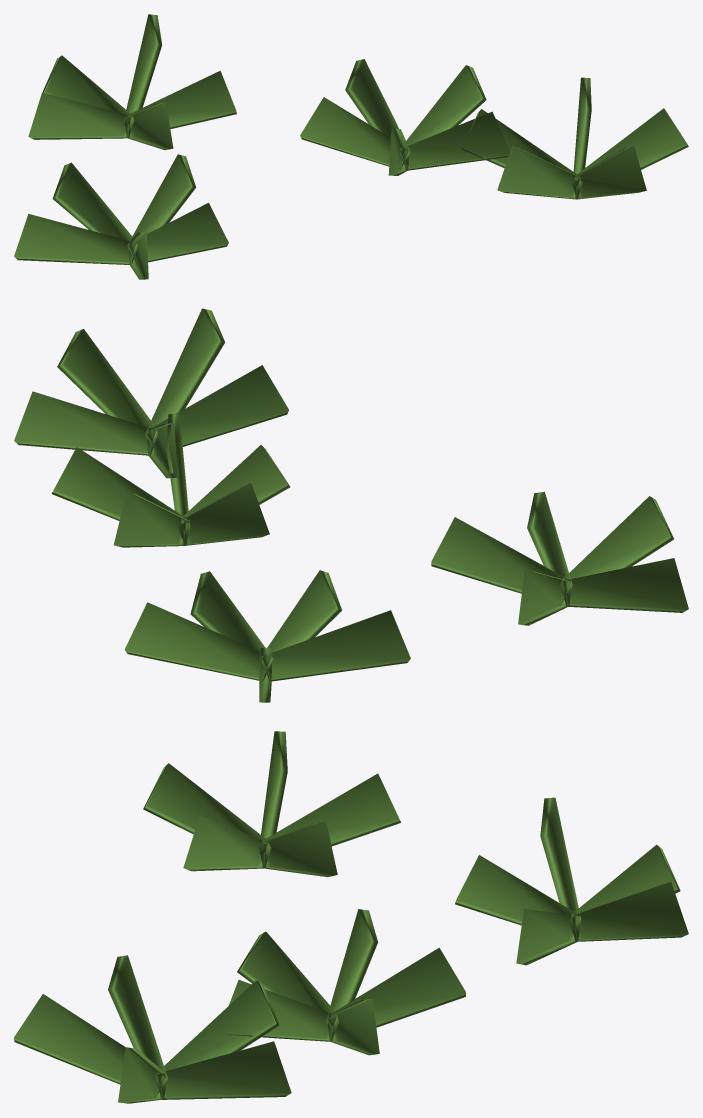
File: farm_rootleaf_stage2.glb
3 renders of one model, top to bottom at view 1: azimuth 30°, elevation 25°; view 2: azimuth 150°, elevation 25°; view 3: azimuth 270°, elevation 25°, orthographic. The views are drawn at different scales.
Parts seen in each view (by area): view 1: FarmBody; view 2: FarmBody; view 3: FarmBody.
Part boxes in pixels (x1,y1,x2,y2): FarmBody: (14,14,688,279); FarmBody: (14,308,688,702); FarmBody: (14,731,688,1103).
Bounding box in the file's own units: 1.61 × 0.2199 × 1.31.
